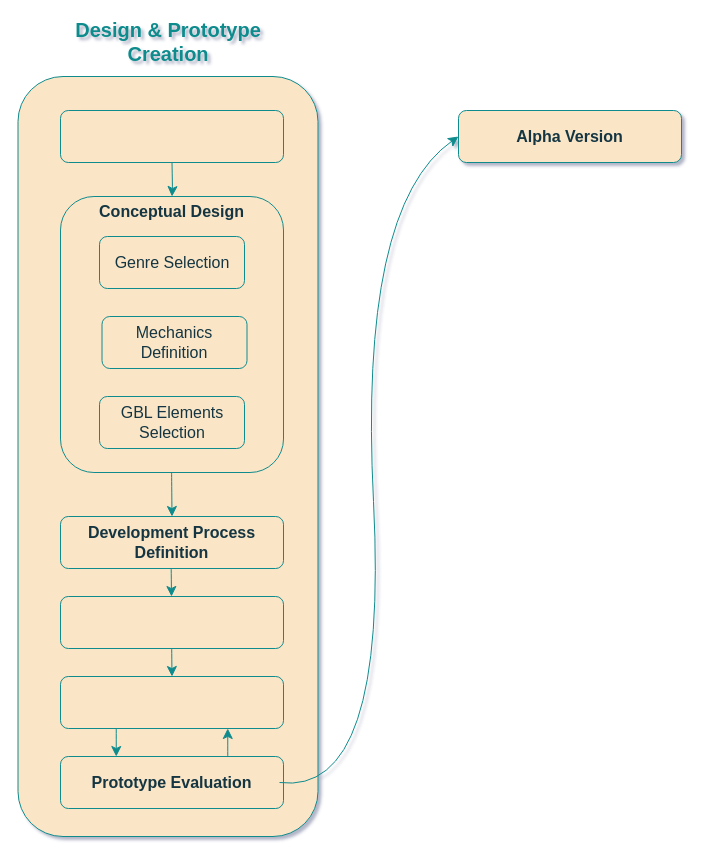
This 705x860 diagram has some shape labels left out. The shapes that lost their labels are listed below. From the top down, each one's centre as x and y in pixels, then its label:
At point 172,136: "Tech Stack Selection".
At point 172,622: "Wireframe".
At point 172,702: "Prototype".
